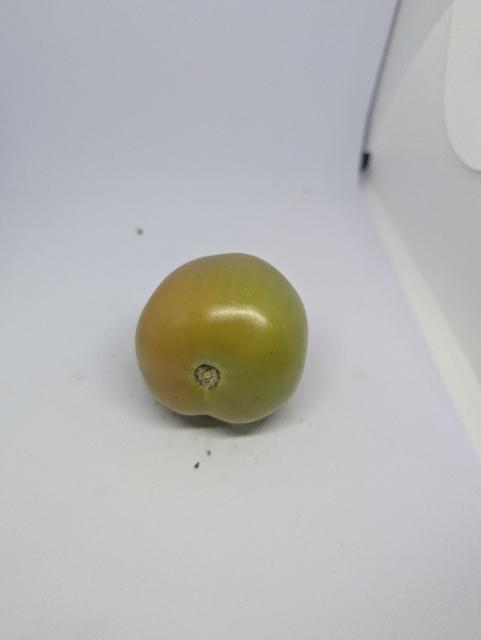breaker: (136, 253, 309, 423)
